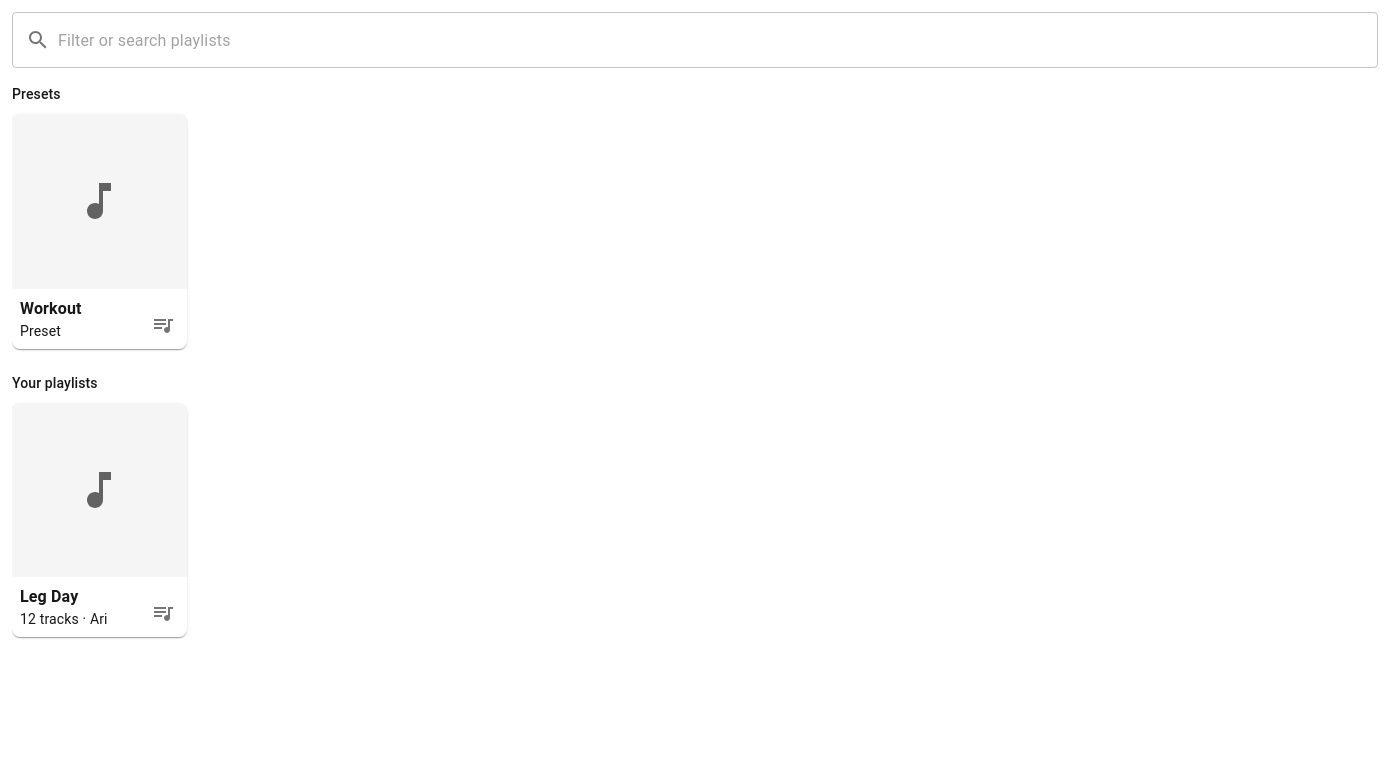
Scenario: PlaylistQuickGrid › filters instantly and adds new Spotify results without duplicates
Expected: the button with aria-label "Play playlist: Workout" is shown, [12, 114, 187, 348]
In the field labelled "Filter or search playlists": (718, 40) [58, 12, 1378, 68], type "leg"
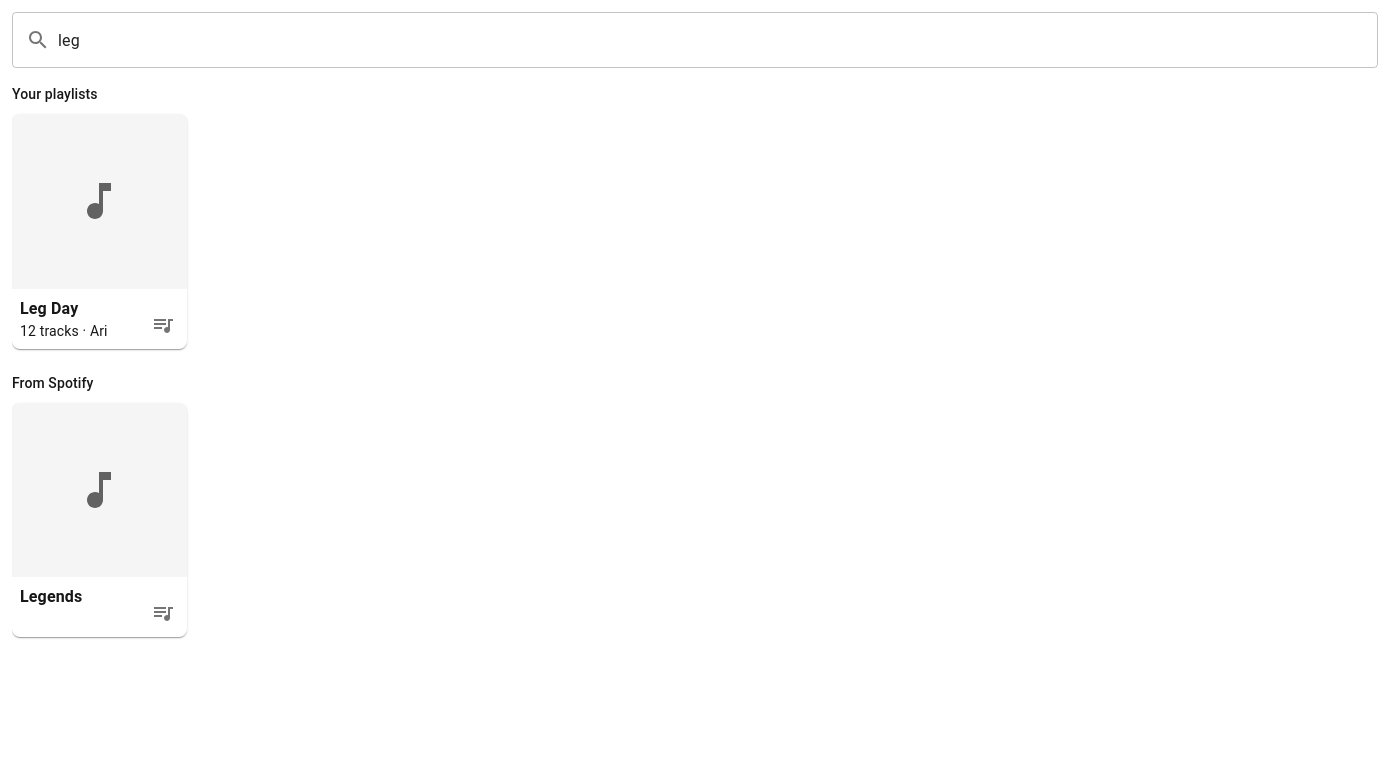
Expected: the number of buttons named "Play playlist: Leg Day" is 1, [12, 114, 187, 348]
Result: the button with aria-label "Play playlist: Legends" is shown at [12, 402, 187, 637]
